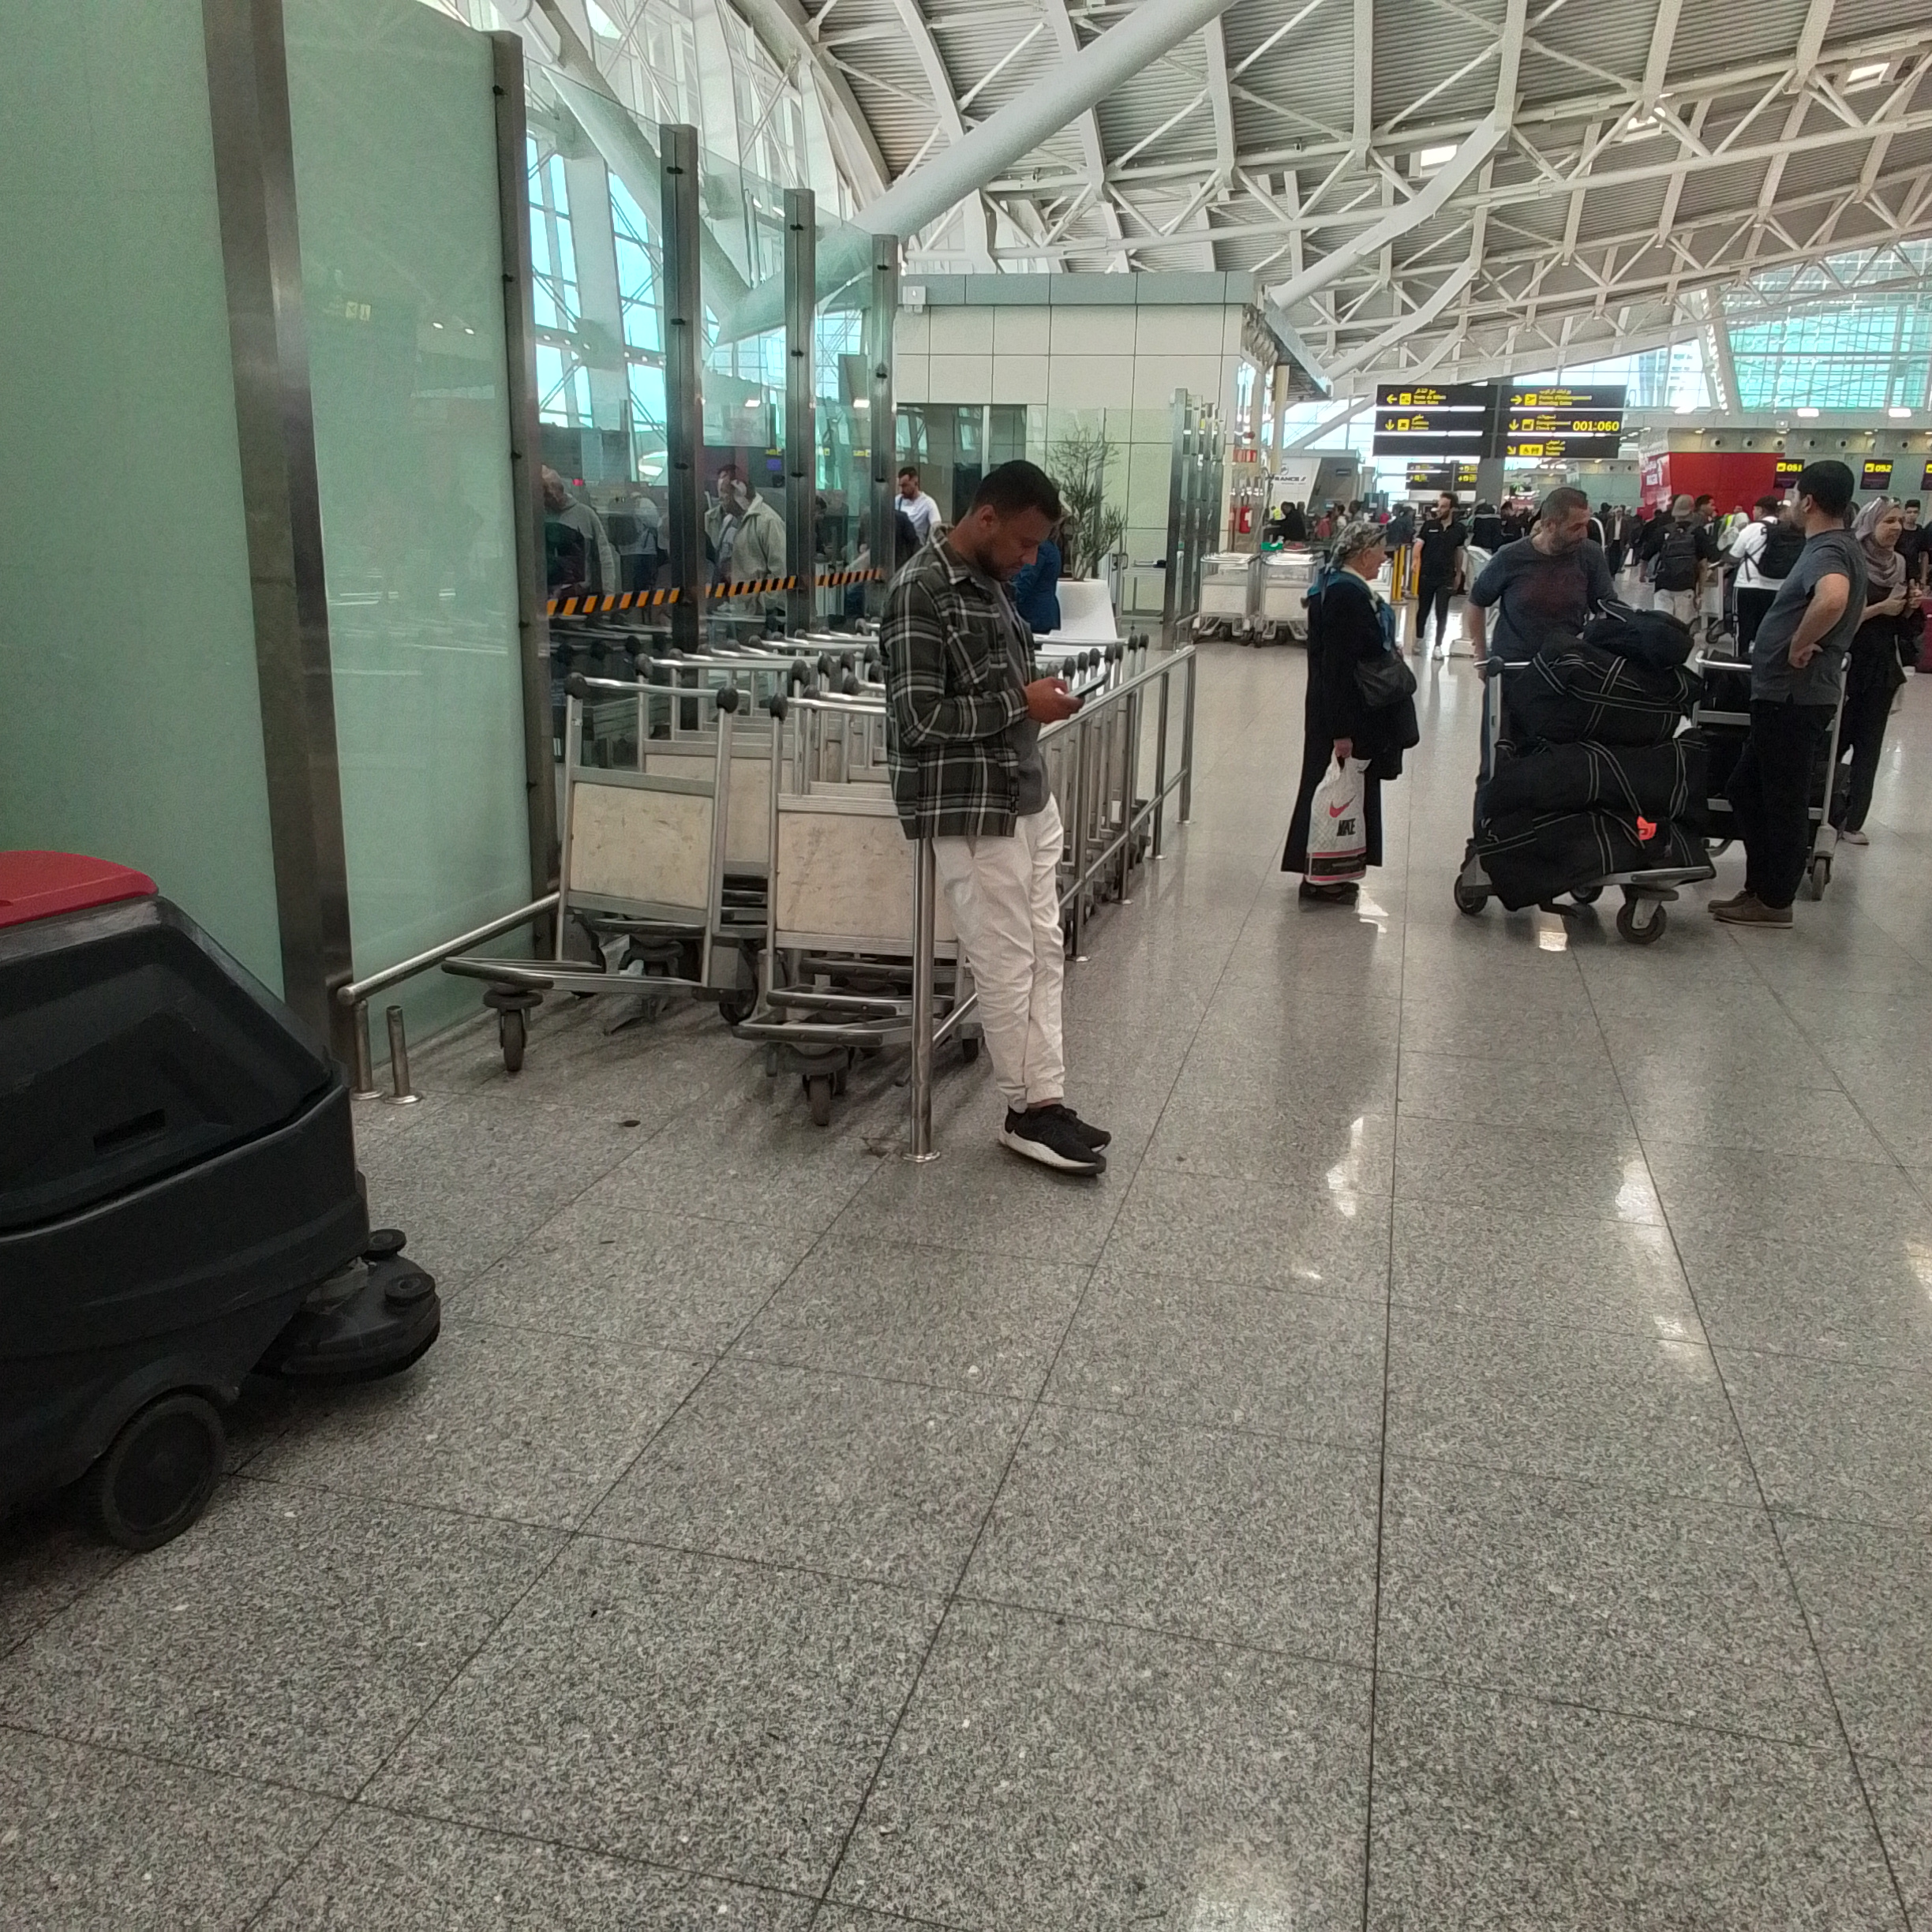airport-trolley: (487, 674, 745, 1044), (752, 692, 966, 1100), (619, 640, 805, 922)
